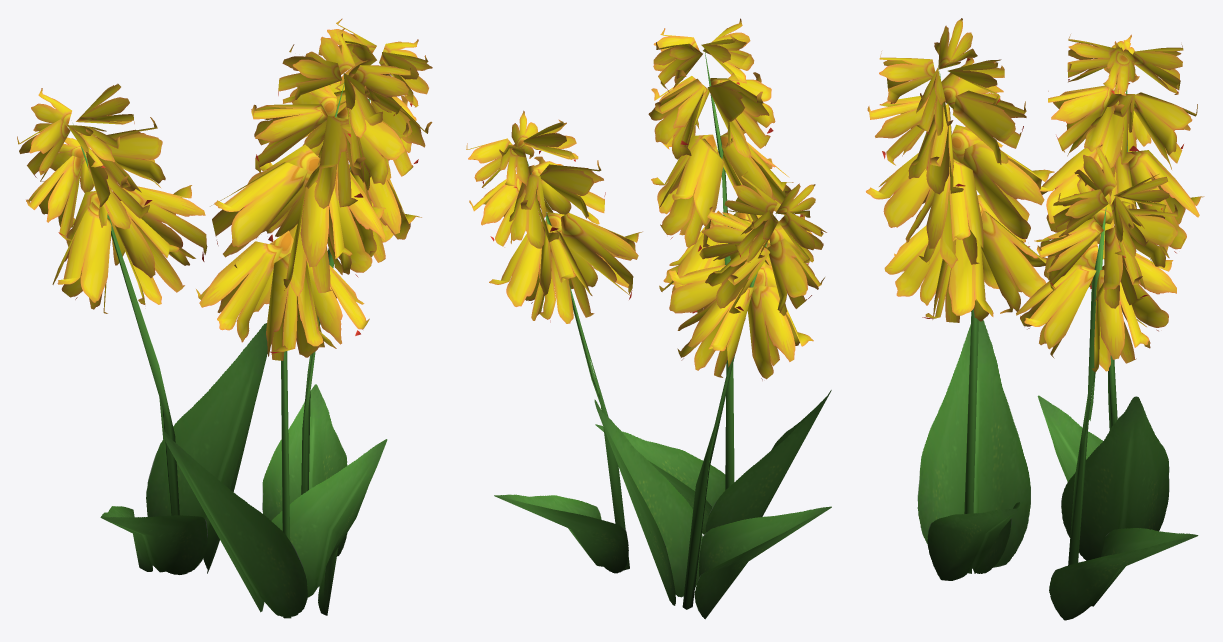
Rendered from flowers_2.gltf.
The picture shows the model from 3 angles, left to right: view 1: azimuth 30°, elevation 25°; view 2: azimuth 150°, elevation 25°; view 3: azimuth 270°, elevation 25°; orthographic projection. The views are drawn at different scales.
Parts seen in each view (by area): view 1: Flower_4_Group; view 2: Flower_4_Group; view 3: Flower_4_Group.
Part boxes in pixels (<box>): Flower_4_Group: <box>17,18,432,618</box>; Flower_4_Group: <box>466,18,831,619</box>; Flower_4_Group: <box>866,18,1204,620</box>.
Size of the model in its own units: 1.78 by 2.49 by 1.37.
2 materials, 2 textured.
